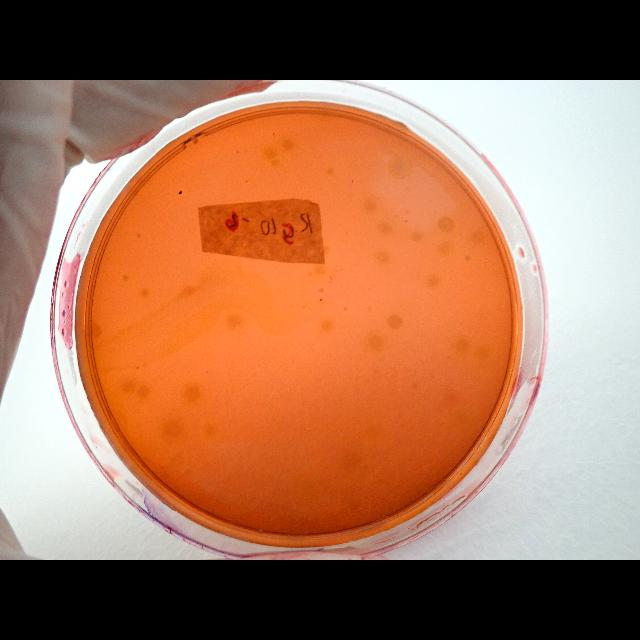colony: (178, 190, 182, 197), (136, 365, 140, 371), (272, 132, 276, 136), (319, 298, 323, 302), (246, 178, 248, 184), (352, 178, 354, 184), (236, 150, 238, 154)
